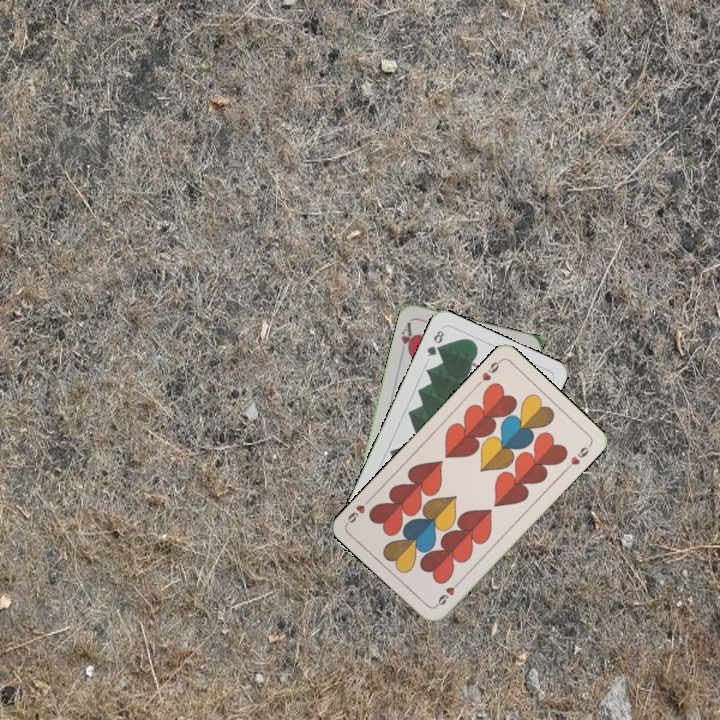G8: (423, 326, 447, 359)
H9: (472, 356, 504, 389), (431, 577, 463, 609)
HA: (397, 318, 417, 358)
